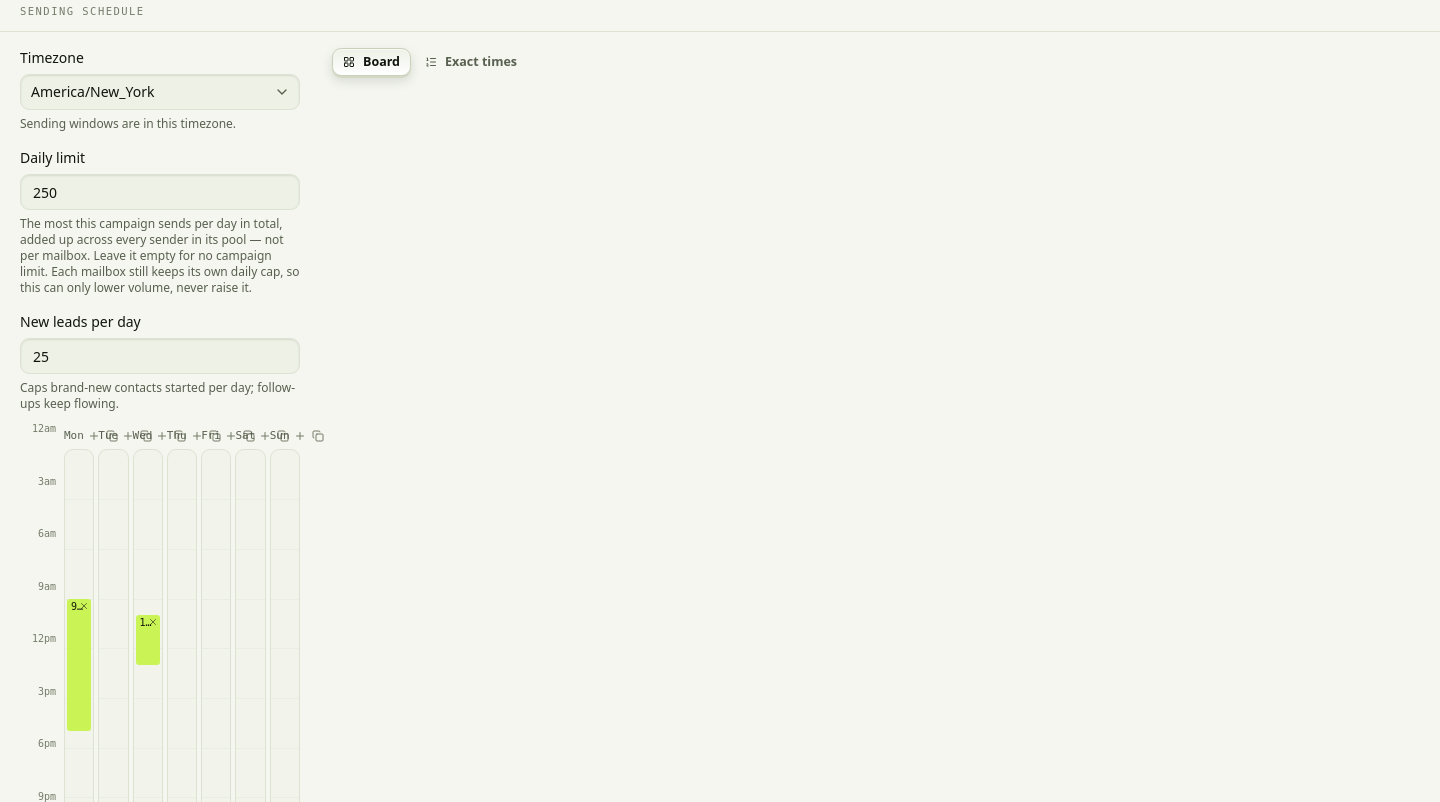
SchedulePanel › renders the saved windows, timezone, and the send-time preview
Click the button "Exact times" at (471, 62), box [415, 48, 527, 76]
(page scrolled)
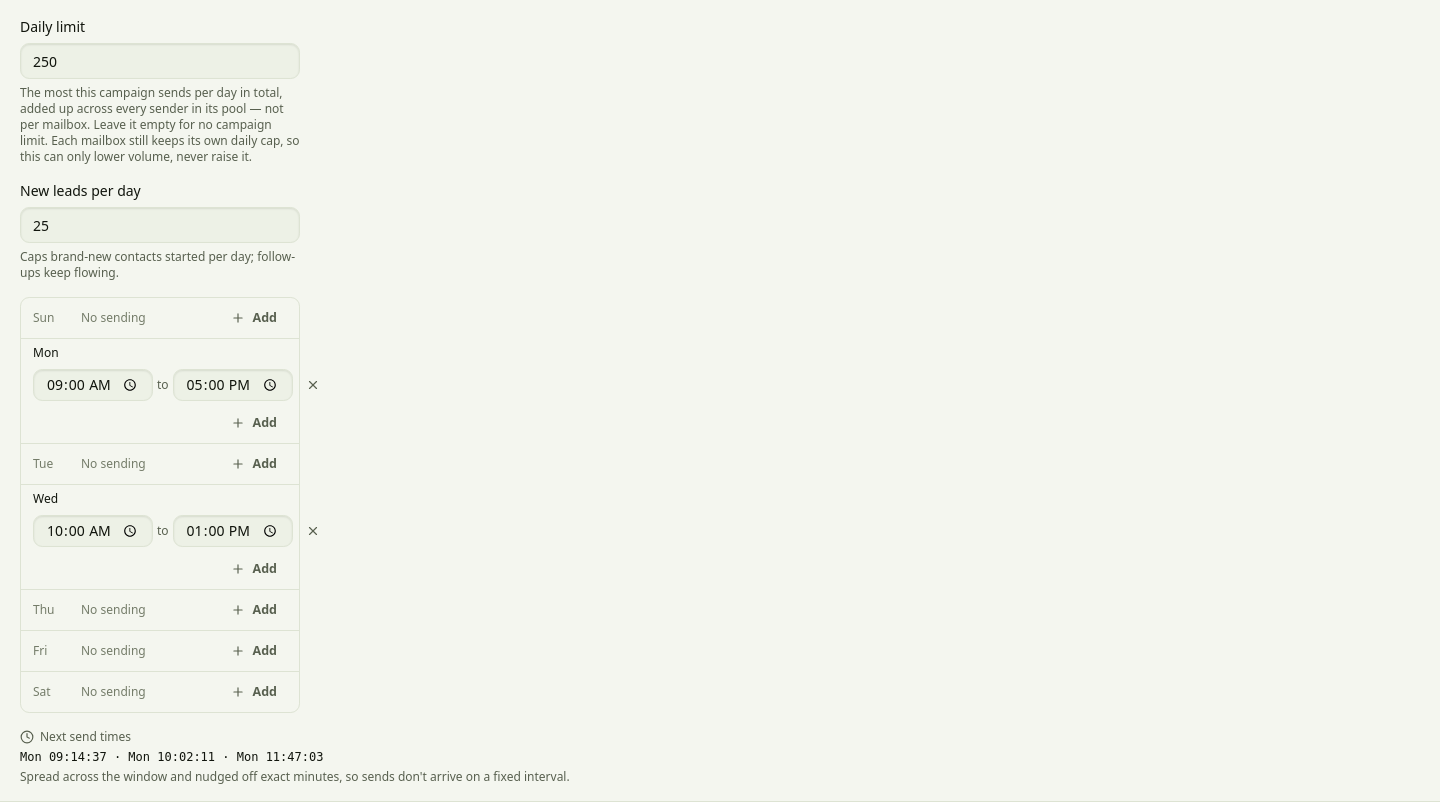
Expected: the time field named "Mon window 1 start" holds "09:00", [33, 369, 153, 401]
Expected: the time field named "Mon window 1 end" holds "17:00", [173, 369, 293, 401]
Expected: the time field named "Wed window 1 start" holds "10:00", [33, 515, 153, 547]
